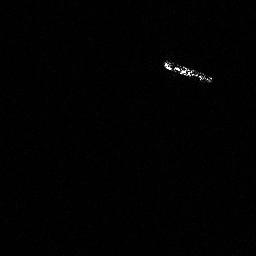ship: (160, 57, 215, 85)
